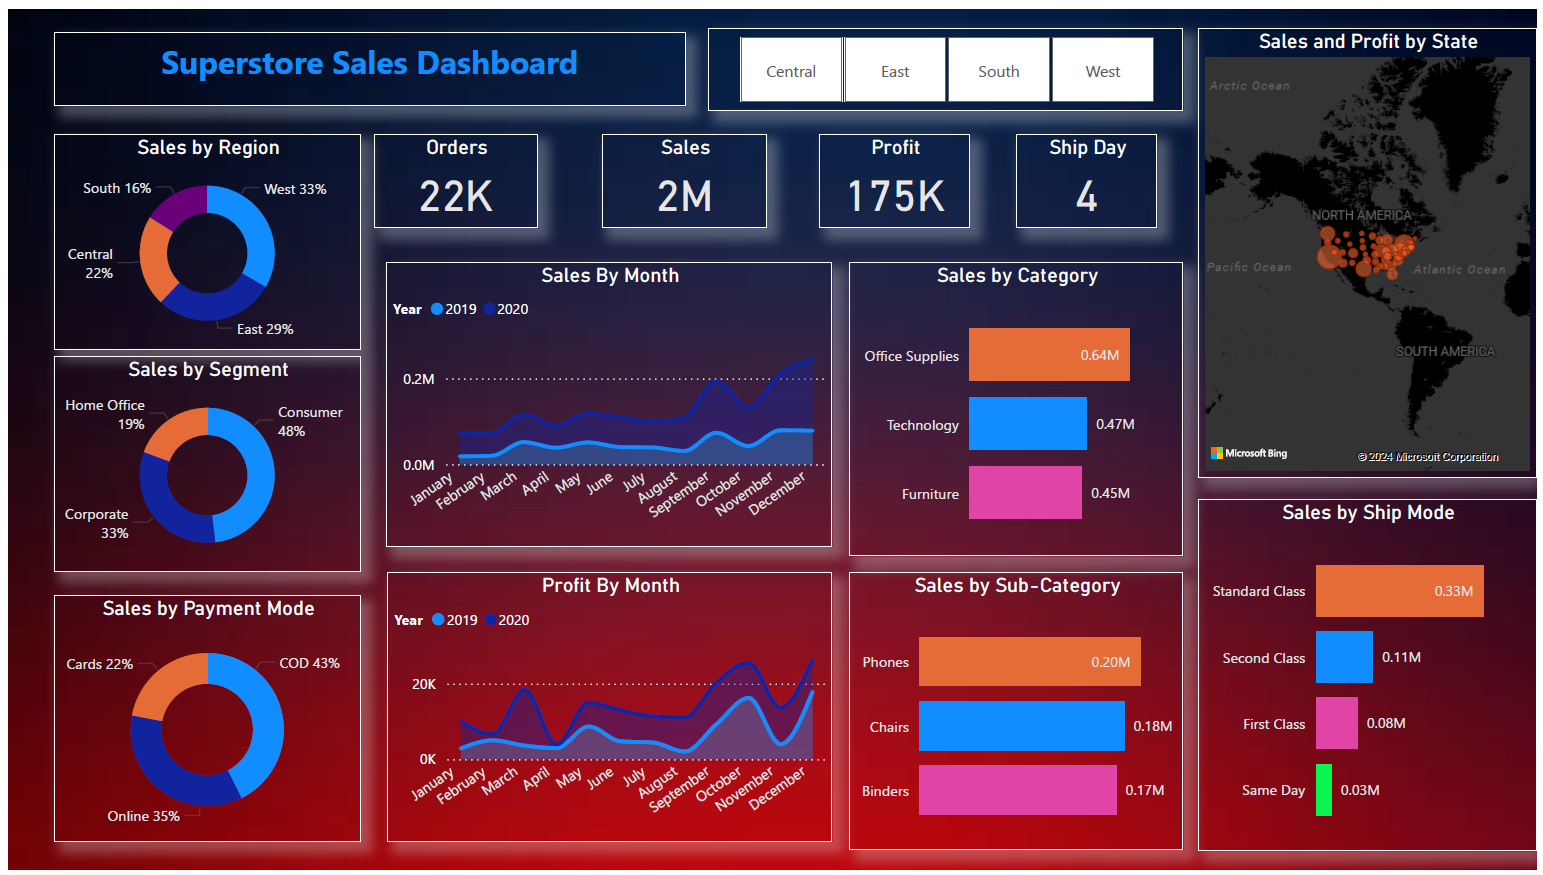

This screenshot's page, from the dashboard's own definition file:
{"tool":"powerbi","page":{"name":"Page 1","canvas":[1280,720],"ordinal":0},"visuals":[{"type":"clusteredBarChart","title":"Sales by Category","fields":{"Category":["SuperStore_Sales_Dataset (1).Category"],"Y":["Sum(SuperStore_Sales_Dataset (1).Sales)"]},"box":[703.9,211.3,279.9,247],"z":0},{"type":"clusteredBarChart","title":"Sales by Sub-Category","fields":{"Category":["SuperStore_Sales_Dataset (1).Sub-Category"],"Y":["Sum(SuperStore_Sales_Dataset (1).Sales)"]},"box":[703.9,470.7,279.9,233.3],"z":1000},{"type":"clusteredBarChart","title":"Sales by Ship Mode","fields":{"Category":["SuperStore_Sales_Dataset (1).Ship Mode"],"Y":["Sum(SuperStore_Sales_Dataset (1).Sales)"]},"box":[996.2,410.3,284,295],"z":2000},{"type":"stackedAreaChart","title":"Sales By Month","fields":{"Category":["SuperStore_Sales_Dataset (1).Order Date.Variation.Date Hierarchy.Month","SuperStore_Sales_Dataset (1).Order Date.Variation.Date Hierarchy.Day"],"Y":["Sum(SuperStore_Sales_Dataset (1).Sales)"],"Series":["SuperStore_Sales_Dataset (1).Order Date.Variation.Date Hierarchy.Year"]},"box":[315.6,211.3,374.6,238.8],"z":3000},{"type":"stackedAreaChart","title":"Profit By Month","fields":{"Category":["SuperStore_Sales_Dataset (1).Order Date.Variation.Date Hierarchy.Month","SuperStore_Sales_Dataset (1).Order Date.Variation.Date Hierarchy.Day"],"Series":["SuperStore_Sales_Dataset (1).Order Date.Variation.Date Hierarchy.Year"],"Y":["Sum(SuperStore_Sales_Dataset (1).Profit)"]},"box":[317,470.7,373.2,226.4],"z":4000},{"type":"map","title":"Sales and Profit by State","fields":{"Category":["SuperStore_Sales_Dataset (1).State"],"Size":["Sum(SuperStore_Sales_Dataset (1).Sales)"]},"box":[996.2,15.1,284,377.4],"z":5000},{"type":"donutChart","title":"Sales by Segment","fields":{"Category":["SuperStore_Sales_Dataset (1).Segment"],"Y":["Sum(SuperStore_Sales_Dataset (1).Sales)"]},"box":[38.4,289.5,256.6,181.1],"z":6000},{"type":"donutChart","title":"Sales by Payment Mode","fields":{"Category":["SuperStore_Sales_Dataset (1).Payment Mode"],"Y":["Sum(SuperStore_Sales_Dataset (1).Sales)"]},"box":[38.4,489.9,256.6,207.2],"z":7000},{"type":"slicer","fields":{"Values":["SuperStore_Sales_Dataset (1).Region"]},"box":[585.9,15.1,397.9,70],"z":8000},{"type":"textbox","box":[38.4,19.2,528.3,61.7],"z":9000},{"type":"card","title":"Sales","fields":{"Values":["Sum(SuperStore_Sales_Dataset (1).Sales)"]},"box":[496.7,104.3,138.6,78.2],"z":10000},{"type":"card","title":"Profit","fields":{"Values":["Sum(SuperStore_Sales_Dataset (1).Profit)"]},"box":[679.2,104.3,126.2,78.2],"z":11000},{"type":"card","title":"Orders","fields":{"Values":["Sum(SuperStore_Sales_Dataset (1).Quantity)"]},"box":[306,104.3,137.2,78.2],"z":12000},{"type":"card","title":"Ship Day","fields":{"Values":["Avg(SuperStore_Sales_Dataset (1).AvgDelivery)"]},"box":[843.9,104.3,118,78.2],"z":13000},{"type":"donutChart","title":"Sales by Region","fields":{"Category":["SuperStore_Sales_Dataset (1).Region"],"Y":["Sum(SuperStore_Sales_Dataset (1).Sales)"]},"box":[38.4,104.3,256.6,181.1],"z":14000}]}

Visuals, with their boxes in screenshot pixels (x1, y1, x2, y2), scaled from the page's 1280x720 canvas onto the 1543x875 screenshot:
"Sales by Category" clusteredBarChart: BBox(849, 257, 1186, 557)
"Sales by Sub-Category" clusteredBarChart: BBox(849, 572, 1186, 856)
"Sales by Ship Mode" clusteredBarChart: BBox(1201, 499, 1542, 857)
"Sales By Month" stackedAreaChart: BBox(380, 257, 832, 547)
"Profit By Month" stackedAreaChart: BBox(382, 572, 832, 847)
"Sales and Profit by State" map: BBox(1201, 18, 1542, 477)
"Sales by Segment" donutChart: BBox(46, 352, 356, 572)
"Sales by Payment Mode" donutChart: BBox(46, 595, 356, 847)
slicer - SuperStore_Sales_Dataset (1).Region: BBox(706, 18, 1186, 103)
textbox: BBox(46, 23, 683, 98)
"Sales" card: BBox(599, 127, 766, 222)
"Profit" card: BBox(819, 127, 971, 222)
"Orders" card: BBox(369, 127, 534, 222)
"Ship Day" card: BBox(1017, 127, 1160, 222)
"Sales by Region" donutChart: BBox(46, 127, 356, 347)
